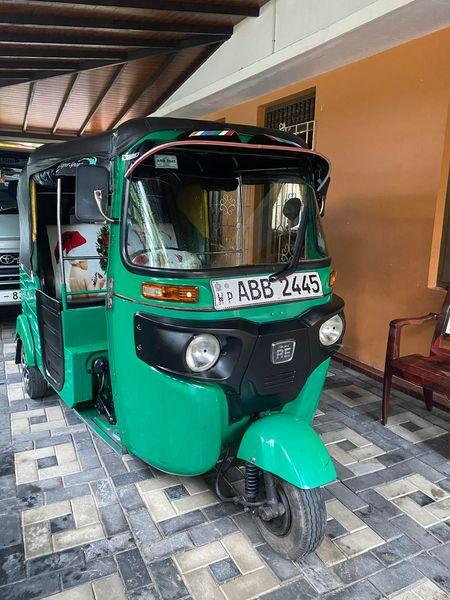threewheel: (15, 118, 344, 562)
